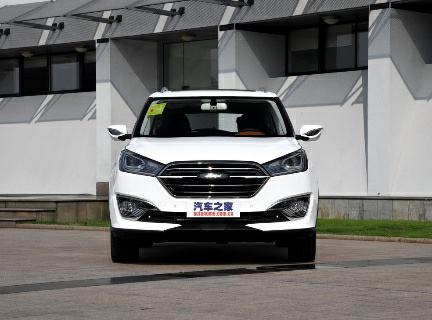众泰-T300: (97, 82, 328, 265)
